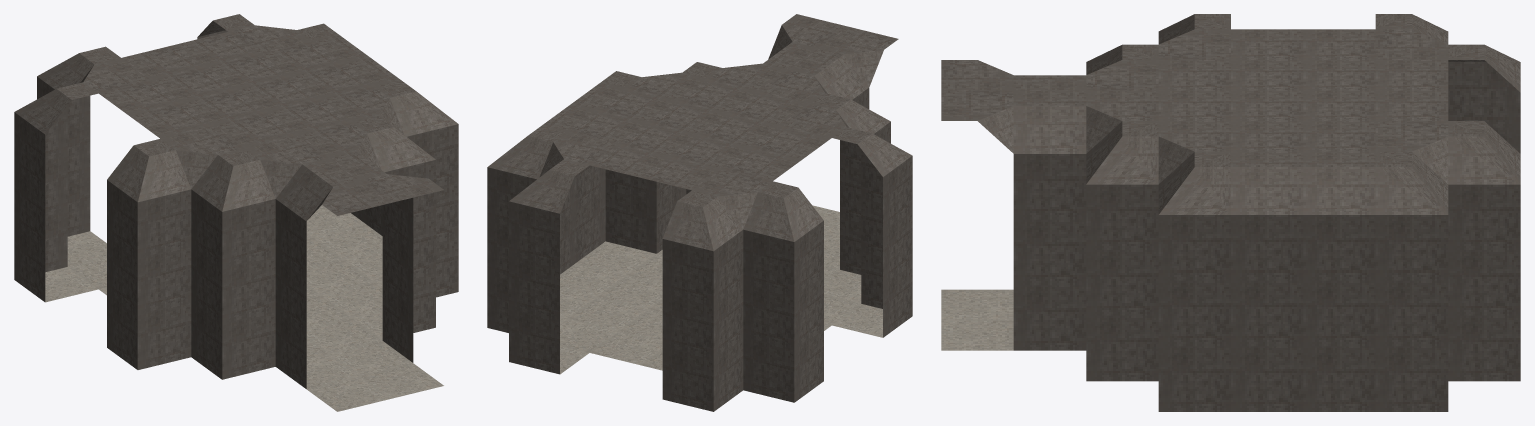
The model's file is DungeonRooms.glb.
3 renders of one model, left to right at view 1: azimuth 30°, elevation 25°; view 2: azimuth 150°, elevation 25°; view 3: azimuth 270°, elevation 25°, orthographic. The views are drawn at different scales.
Parts seen in each view (by area): view 1: Building-col, Building-Hall-col, Building-Wall-col; view 2: Building-col, Building-Hall-col, Building-Wall-col; view 3: Building-col, Building-Wall-col, Building-Hall-col.
Boxes of the visible parts, x1,y1,x2,y2 form: Building-col: [14, 14, 458, 379]; Building-Hall-col: [245, 122, 443, 411]; Building-Wall-col: [313, 35, 400, 282]; Building-col: [487, 62, 912, 411]; Building-Hall-col: [708, 14, 898, 280]; Building-Wall-col: [543, 82, 626, 318]; Building-col: [1086, 14, 1520, 411]; Building-Wall-col: [1231, 151, 1375, 411]; Building-Hall-col: [941, 60, 1158, 350].
Bounding box in the file's own units: 6 × 3.5 × 8.
1 material, 1 textured.
